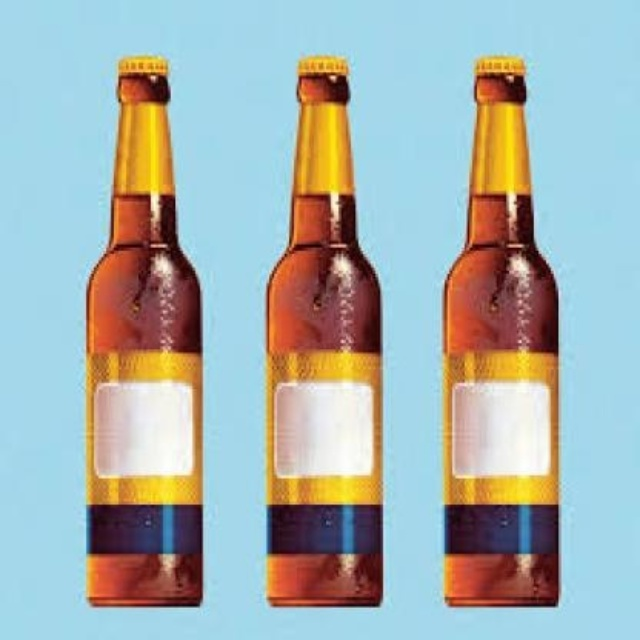trash: (86, 55, 200, 605), (268, 55, 382, 605), (445, 57, 557, 605)
